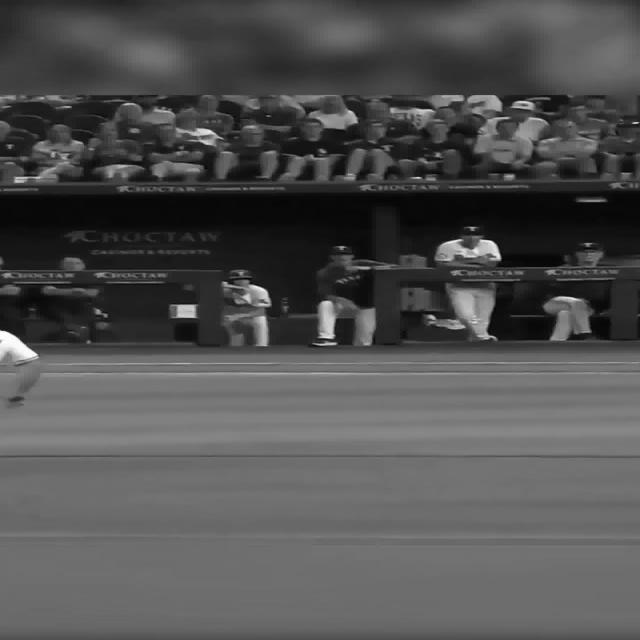shoe: (444, 319, 466, 330), (310, 339, 338, 346), (420, 314, 436, 326), (477, 335, 498, 341)
